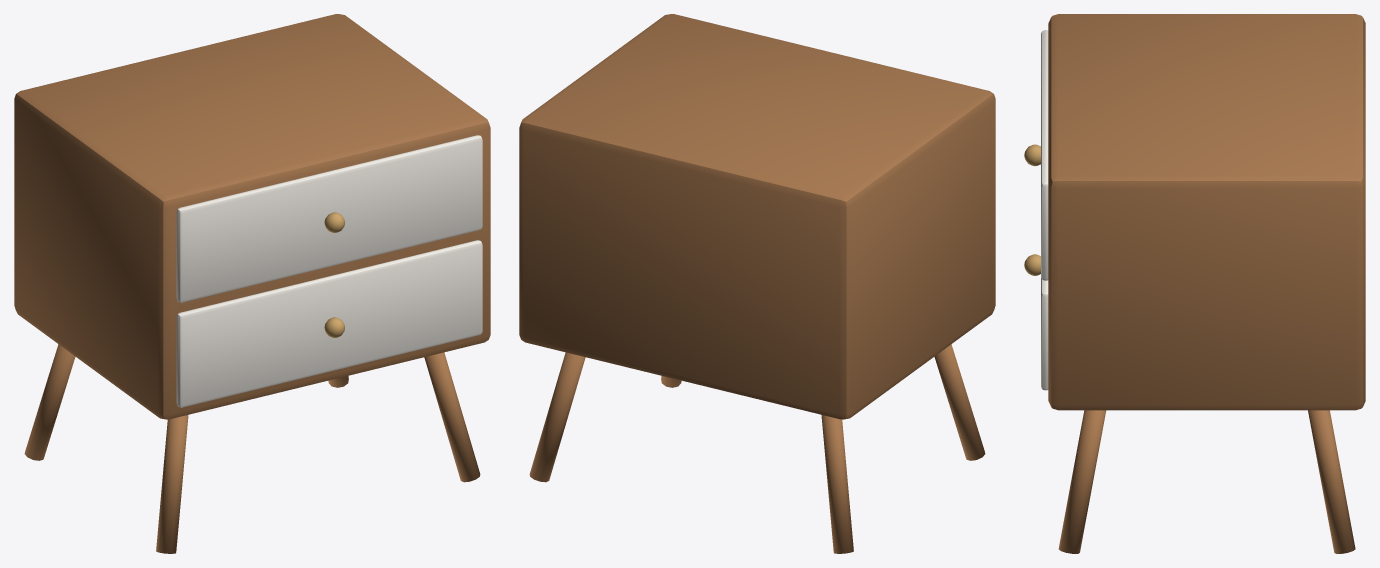
File: nightstand_leg.glb
The picture shows the model from 3 angles, left to right: view 1: azimuth 30°, elevation 25°; view 2: azimuth 150°, elevation 25°; view 3: azimuth 270°, elevation 25°; orthographic projection. The views are drawn at different scales.
Parts seen in each view (by area): view 1: box, box.001, box.002, tube, tube.002, tube.001; view 2: box, tube.001, tube.003, tube; view 3: box, tube.002, tube.003, box.002, box.001.
Part boxes in pixels (bbox=[...]): box: bbox=[14, 14, 490, 419]; box.001: bbox=[176, 240, 482, 407]; box.002: bbox=[176, 135, 482, 302]; tube: bbox=[156, 415, 188, 553]; tube.002: bbox=[424, 352, 480, 482]; tube.001: bbox=[24, 344, 75, 460]; box: bbox=[519, 14, 995, 419]; tube.001: bbox=[821, 415, 853, 553]; tube.003: bbox=[529, 352, 585, 482]; tube: bbox=[934, 344, 985, 460]; box: bbox=[1048, 14, 1365, 410]; tube.002: bbox=[1058, 410, 1106, 553]; tube.003: bbox=[1308, 410, 1355, 553]; box.002: bbox=[1041, 30, 1048, 280]; box.001: bbox=[1041, 277, 1048, 390].
Bounding box in the file's own units: 48 × 50.34 × 40.9.
